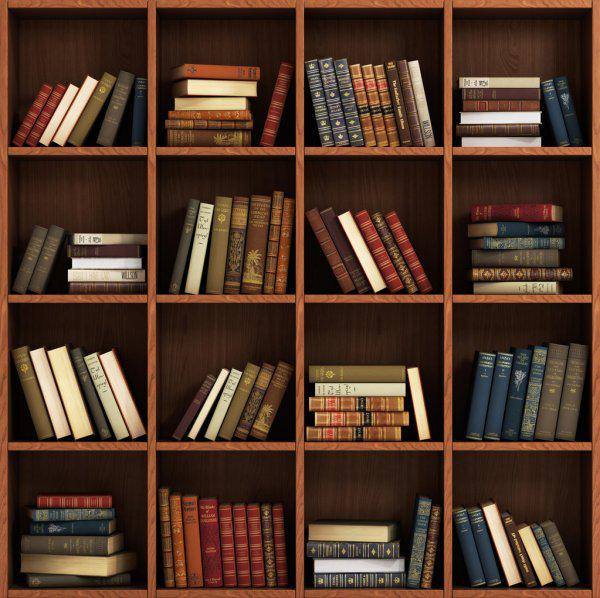book: (325, 68, 344, 138), (313, 369, 401, 382), (26, 558, 117, 570), (204, 506, 216, 585), (311, 400, 400, 410), (318, 386, 404, 396), (465, 113, 541, 124), (189, 503, 199, 586), (216, 204, 225, 288), (27, 538, 111, 547), (475, 209, 549, 219), (190, 82, 255, 93), (43, 498, 108, 508), (188, 67, 259, 76), (319, 416, 406, 423), (311, 430, 398, 437), (465, 78, 540, 86), (466, 90, 540, 98), (163, 498, 170, 578), (463, 102, 540, 109), (78, 236, 144, 244), (549, 361, 556, 436), (40, 512, 111, 519), (73, 272, 143, 279), (74, 260, 141, 267), (137, 81, 144, 146), (75, 249, 139, 256), (180, 99, 242, 106), (39, 525, 107, 531)
